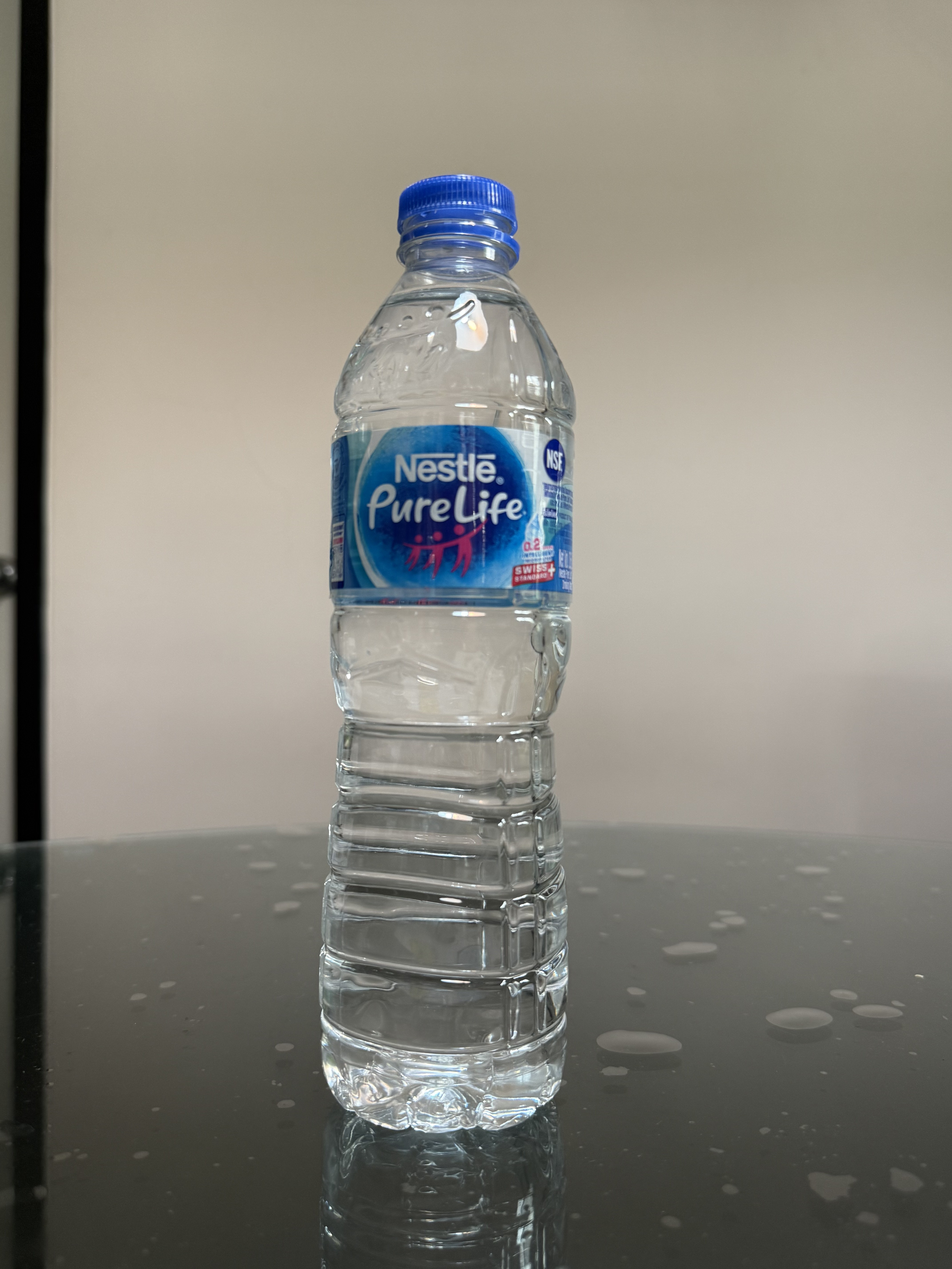half_cap: (393, 170, 521, 270)
